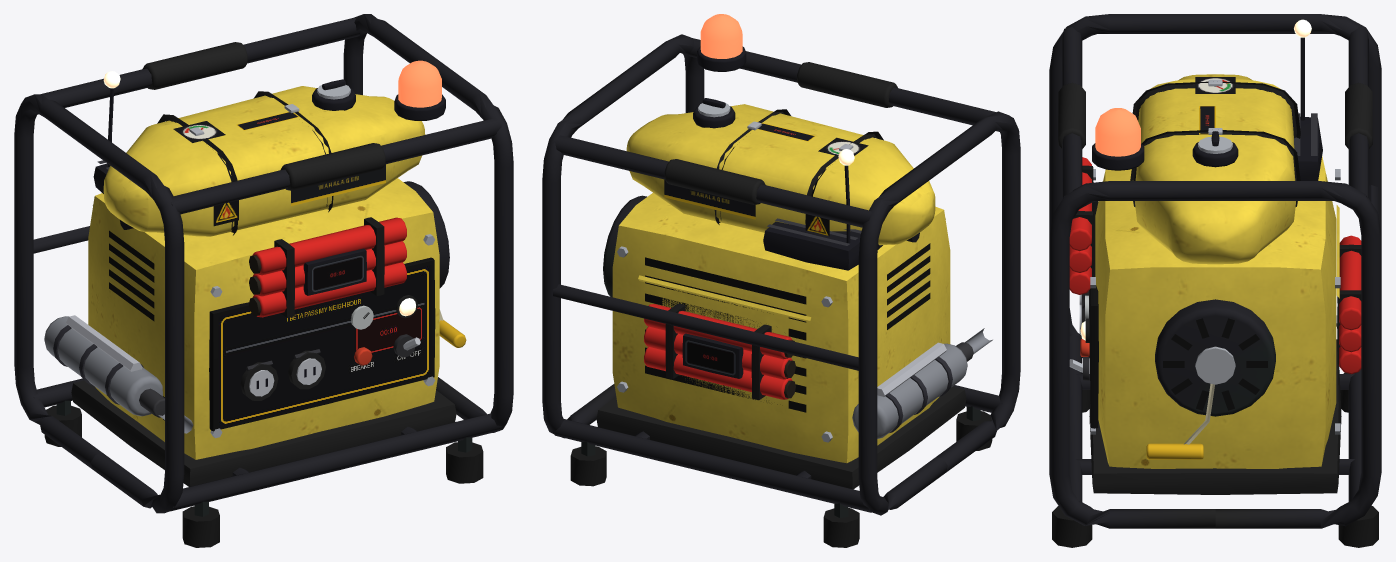
File: gen_generator.glb
3 renders of one model, left to right at view 1: azimuth 30°, elevation 25°; view 2: azimuth 150°, elevation 25°; view 3: azimuth 270°, elevation 25°, orthographic. The views are drawn at different scales.
Parts seen in each view (by area): view 1: gen_generator_body, lamp; view 2: gen_generator_body, lamp; view 3: gen_generator_body, lamp, antenna.
Part boxes in pixels (left/top/right/bottom): gen_generator_body: left=14, top=14, right=513, bottom=547; lamp: left=398, top=60, right=441, bottom=316; gen_generator_body: left=542, top=34, right=1020, bottom=547; lamp: left=700, top=14, right=742, bottom=58; gen_generator_body: left=1049, top=14, right=1381, bottom=547; lamp: left=1080, top=108, right=1140, bottom=340; antenna: left=1294, top=19, right=1311, bottom=120.
Bounding box in the file's own units: 0.619 × 0.6865 × 0.4942.
Materials: 6 (2 with a texture image).
